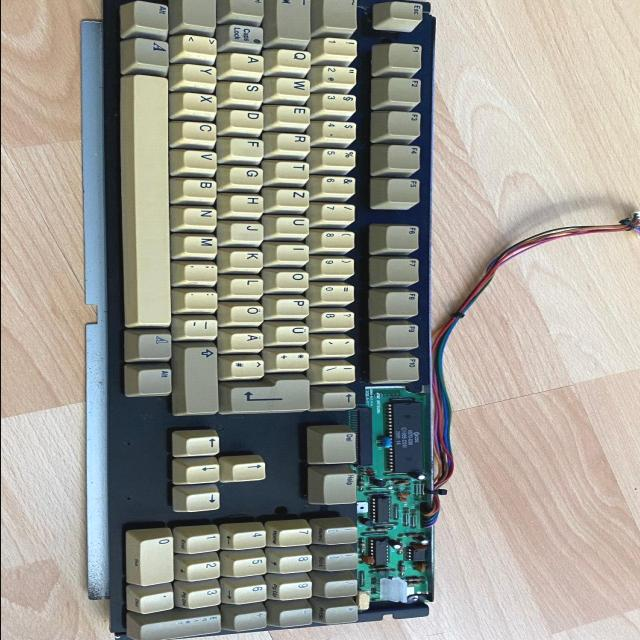0: (320, 282, 358, 303)
1: (323, 36, 361, 58)
2: (321, 64, 361, 86)
3: (323, 91, 361, 113)
4: (322, 119, 361, 140)
5: (322, 147, 360, 167)
6: (321, 175, 359, 195)
7: (322, 202, 358, 222)
8: (320, 229, 358, 249)
9: (320, 255, 358, 276)
a: (232, 52, 268, 74)
accent: (322, 336, 358, 355)
ae: (231, 330, 267, 351)
alt-left: (134, 0, 173, 32)
b: (183, 177, 221, 199)
c: (183, 119, 221, 141)
comma: (182, 261, 222, 283)
d: (231, 108, 267, 128)
del: (320, 391, 356, 411)
e: (278, 104, 314, 124)
enter: (229, 377, 317, 413)
f: (231, 136, 267, 158)
g: (231, 165, 267, 185)
h: (232, 193, 267, 214)
hash: (230, 357, 268, 378)
i: (278, 242, 313, 262)
j: (231, 221, 267, 242)
k: (231, 249, 267, 269)
keyboard: (93, 0, 447, 640)
l: (231, 276, 267, 295)
less: (181, 33, 221, 59)
m: (184, 233, 222, 255)
minus: (184, 316, 222, 338)
n: (185, 206, 221, 228)
o: (277, 269, 313, 289)
oe: (231, 303, 267, 323)
p: (278, 296, 313, 316)
plus: (276, 349, 314, 369)
point: (184, 289, 222, 311)
q: (277, 47, 315, 69)
r: (278, 132, 314, 152)
s: (230, 80, 268, 100)
shift-left: (182, 0, 221, 29)
shift-lock: (224, 22, 268, 48)
shift-right: (185, 345, 223, 413)
space: (125, 69, 174, 331)
ss: (320, 308, 358, 329)
strg-left: (230, 0, 268, 18)
strg-right: (134, 364, 174, 399)
t: (277, 160, 313, 180)
tab: (277, 0, 315, 42)
u: (277, 215, 313, 235)
ue: (276, 323, 314, 343)
v: (185, 149, 221, 171)
w: (277, 75, 315, 97)
x: (182, 91, 221, 114)
y: (183, 63, 221, 86)
z: (278, 187, 314, 206)
